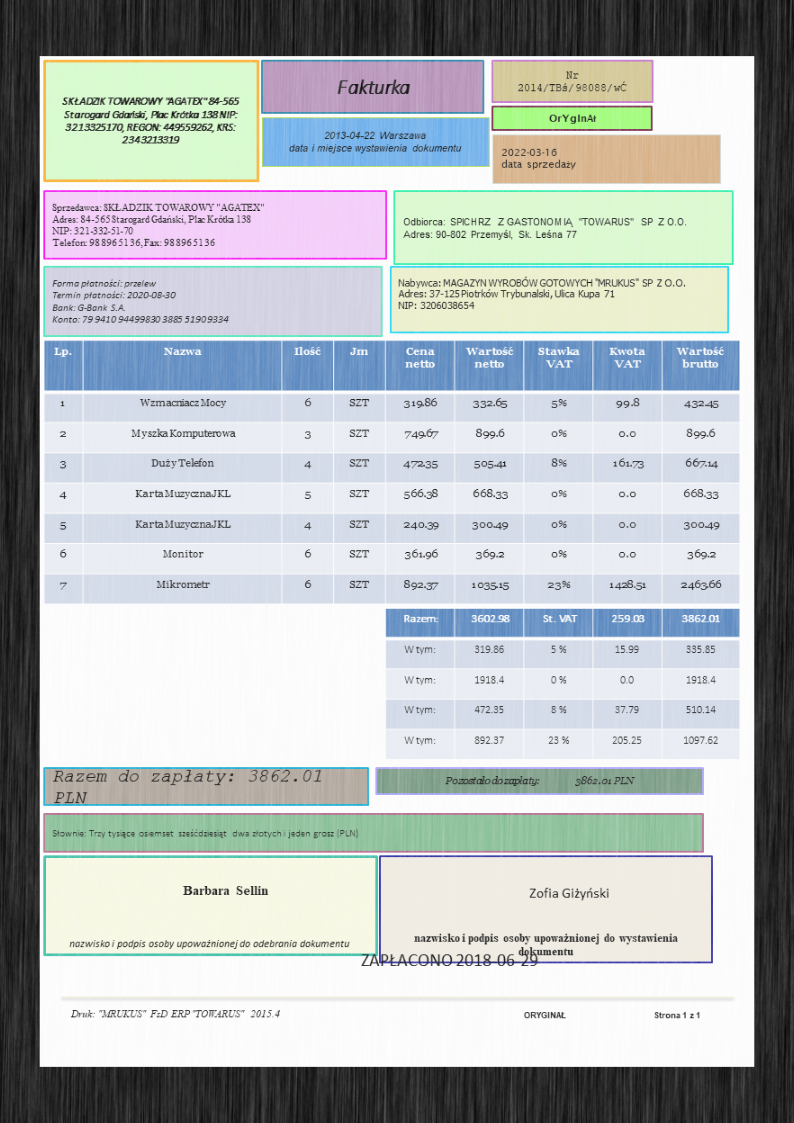Table: (42, 340, 740, 604), (384, 607, 740, 759)
TextBox: (49, 200, 265, 250), (395, 276, 685, 312), (59, 93, 240, 148), (51, 769, 322, 805), (50, 276, 231, 327), (402, 215, 690, 242), (411, 932, 680, 957), (286, 128, 464, 155), (67, 936, 350, 952), (51, 827, 360, 840), (358, 953, 539, 970), (515, 68, 629, 94), (442, 773, 638, 788), (69, 1007, 283, 1020), (522, 1008, 702, 1021), (499, 145, 579, 172), (334, 78, 411, 97), (181, 883, 268, 898), (527, 886, 611, 901), (546, 111, 600, 125)
